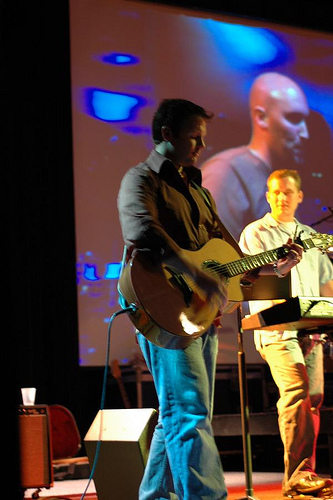guitar: (116, 234, 333, 353)
